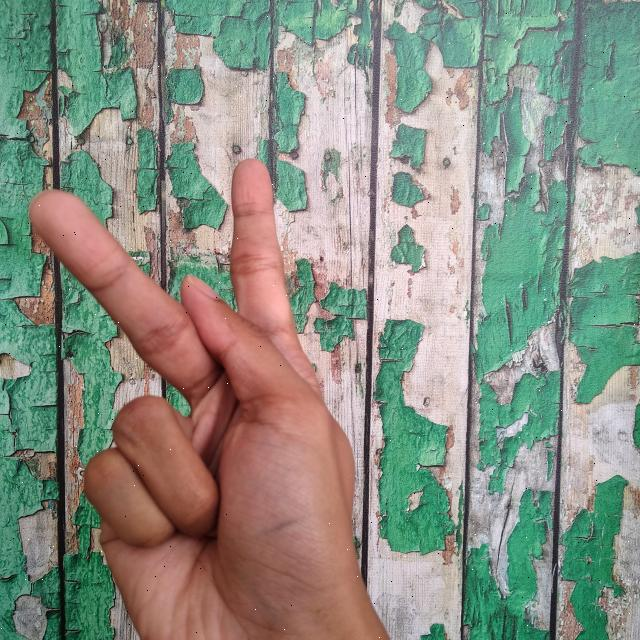K: (23, 153, 395, 640)
